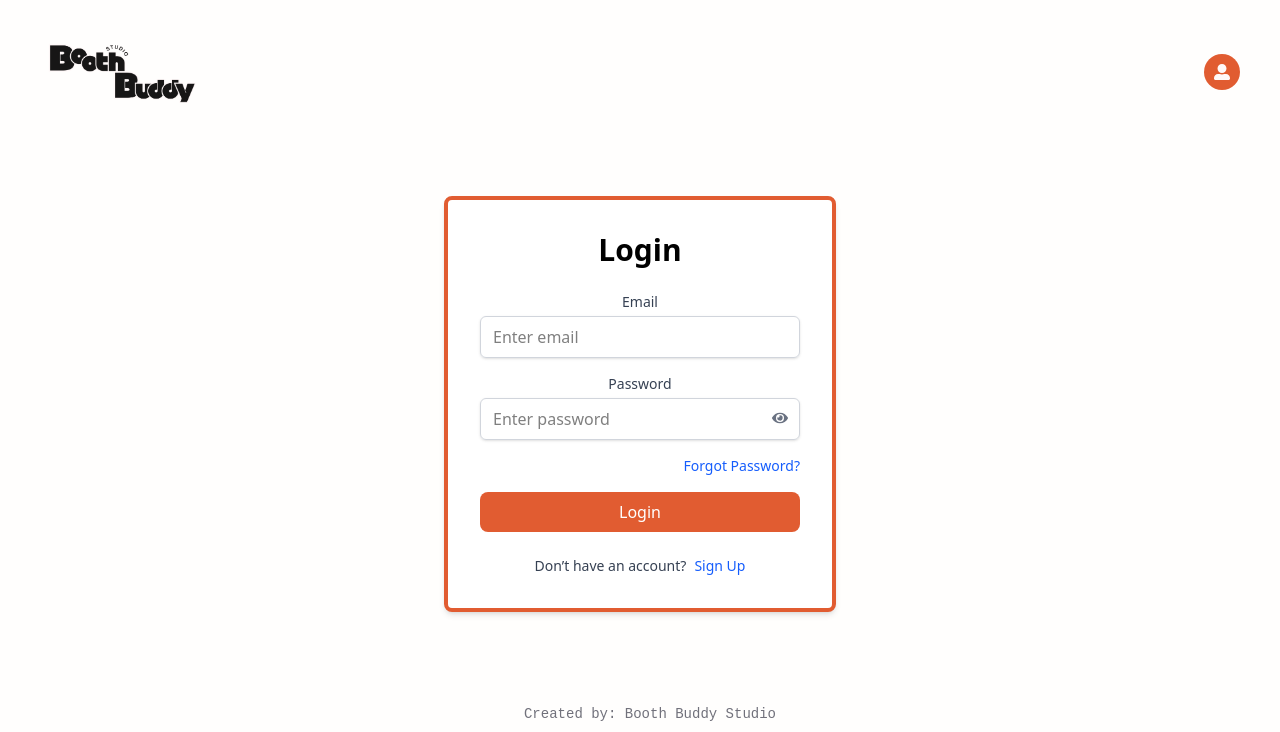
LoginPage Component › should show error when forgot password clicked without email
What coordinates should you click on to do the following:
click the text "Forgot Password?"
I would click on:
 (742, 466)
Its box is [683,456,800,475].
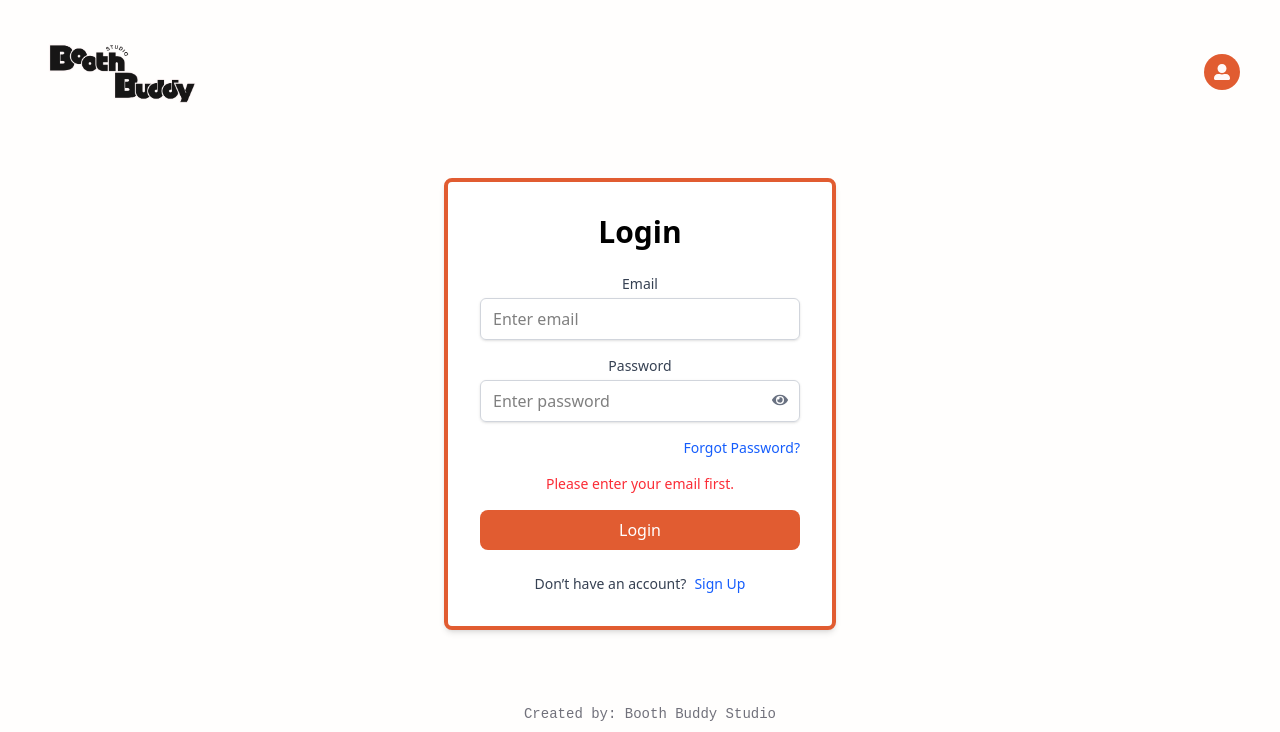
Expected: the text "Please enter your email first." is shown, [546,474,734,493]
